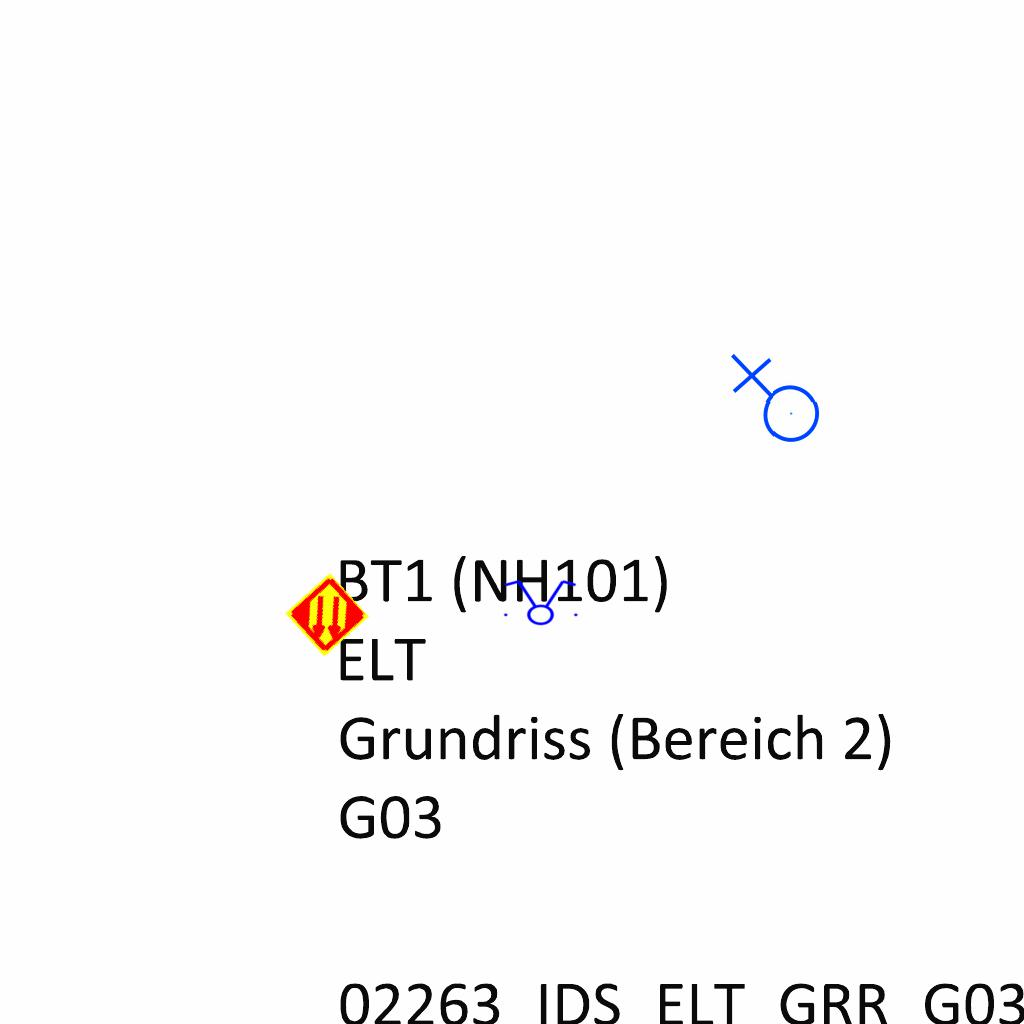ASR_Ansaugrauchmelder: (283, 571, 371, 659)
Elektroanschluss_allgemein_230V_Geraeteanschlussdose_230V: (725, 351, 822, 453)
Serienschalter: (498, 578, 582, 626)
